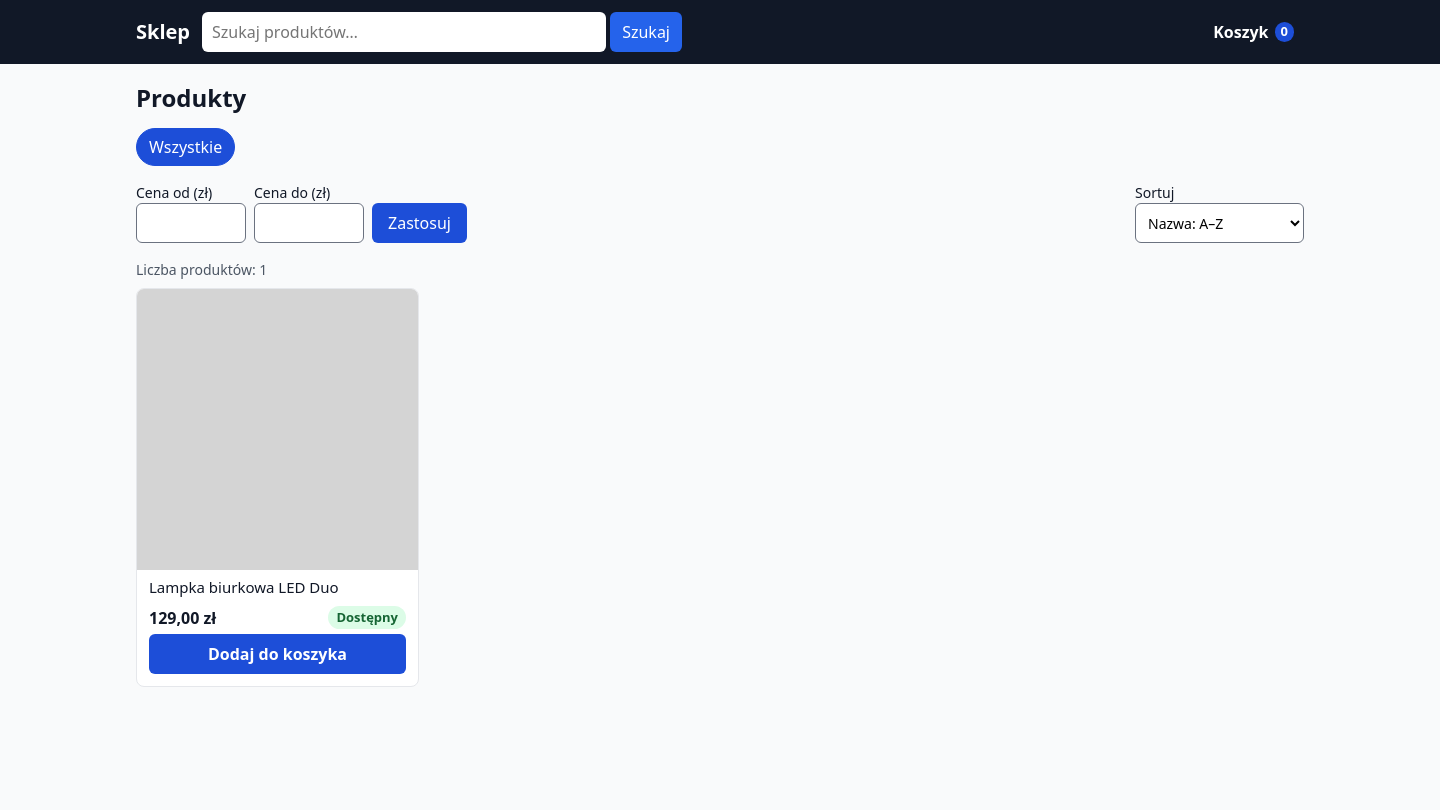
adding to the cart › adds one item from the product list
Click the button with aria-label "Dodaj do koszyka: Lampka biurkowa LED Duo": click(278, 654) [149, 634, 406, 674]
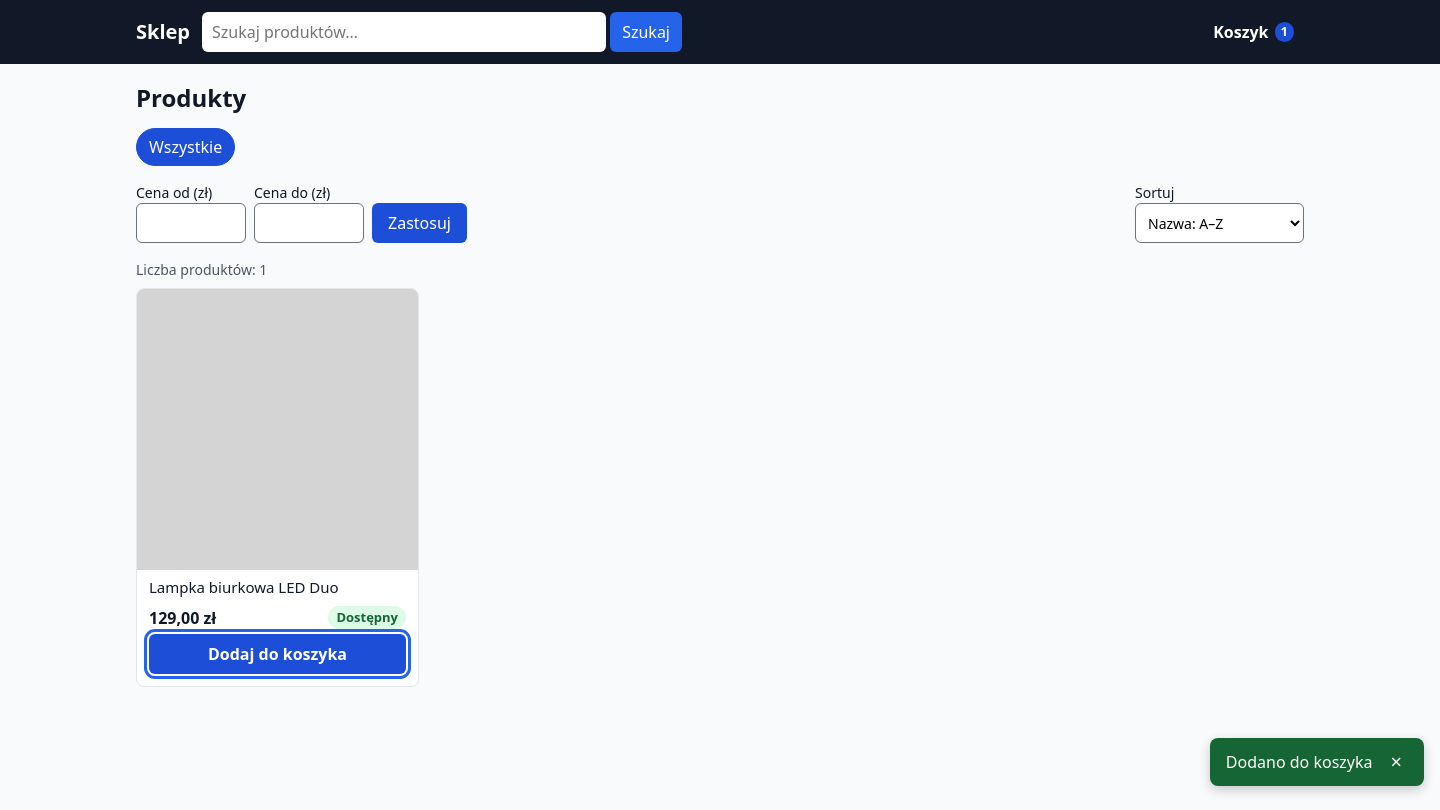
Expected: the text "Dodano do koszyka" is shown, [1226, 750, 1373, 774]
Expected: the link with aria-label "Koszyk, liczba produktów: 1" is shown, [1213, 21, 1294, 43]
